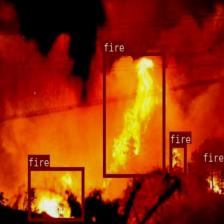fire: (103, 52, 164, 177), (28, 166, 83, 220), (202, 162, 224, 197), (169, 144, 186, 176)
